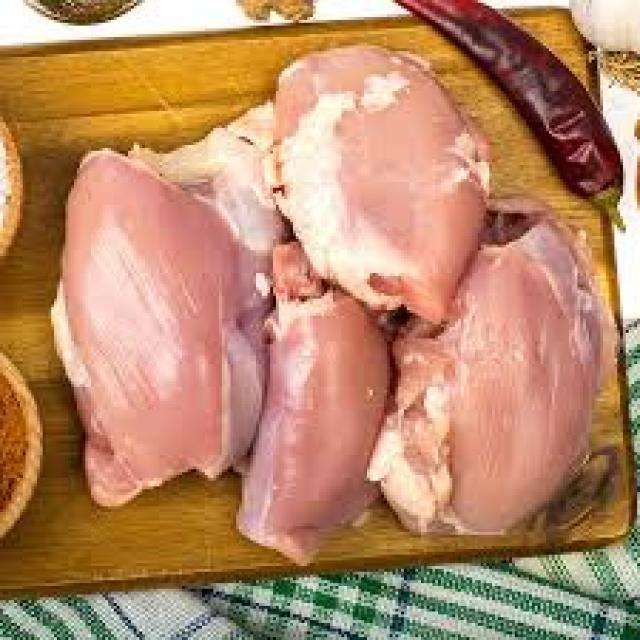thigh: (64, 124, 256, 502), (415, 217, 610, 542), (268, 42, 508, 302), (255, 288, 390, 556)
